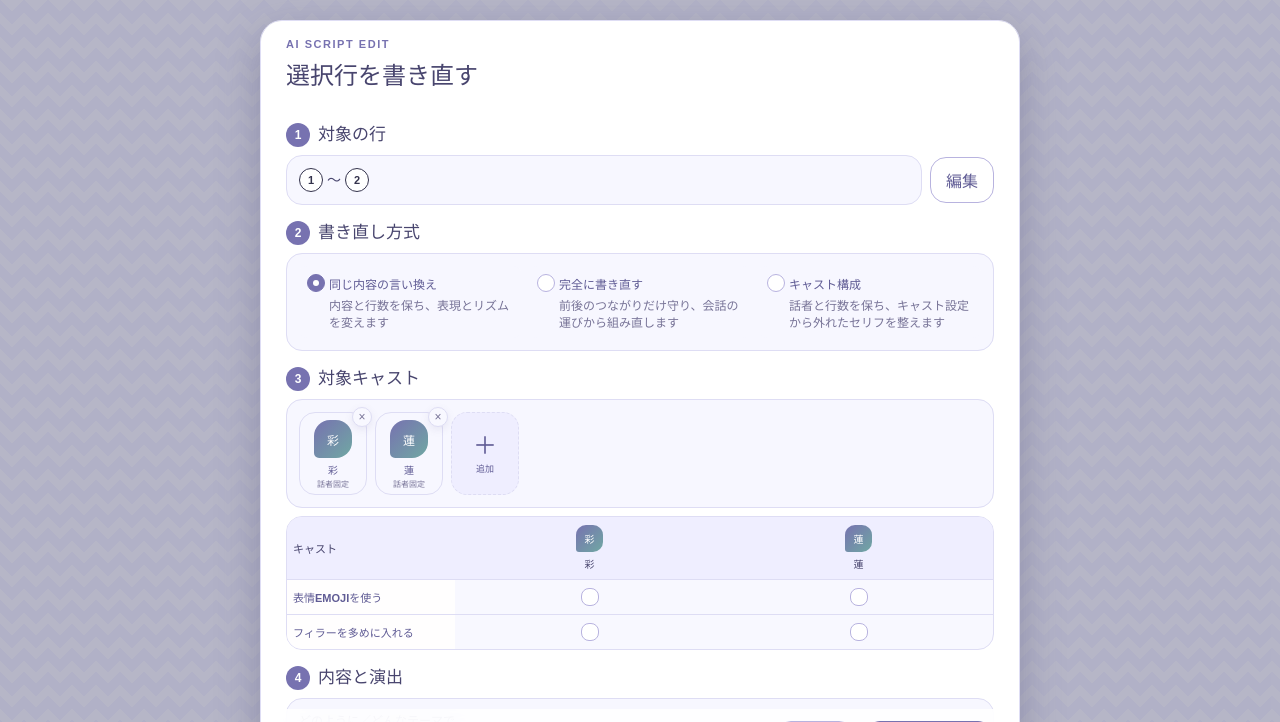
it: LineAssistantDialog cast and target settings › composes only the selected casts without content or emoji controls
Later steps or results of the test are not shown.
Click the radio button labelled "キャスト構成".
click(776, 283)  # box [767,274,785,292]
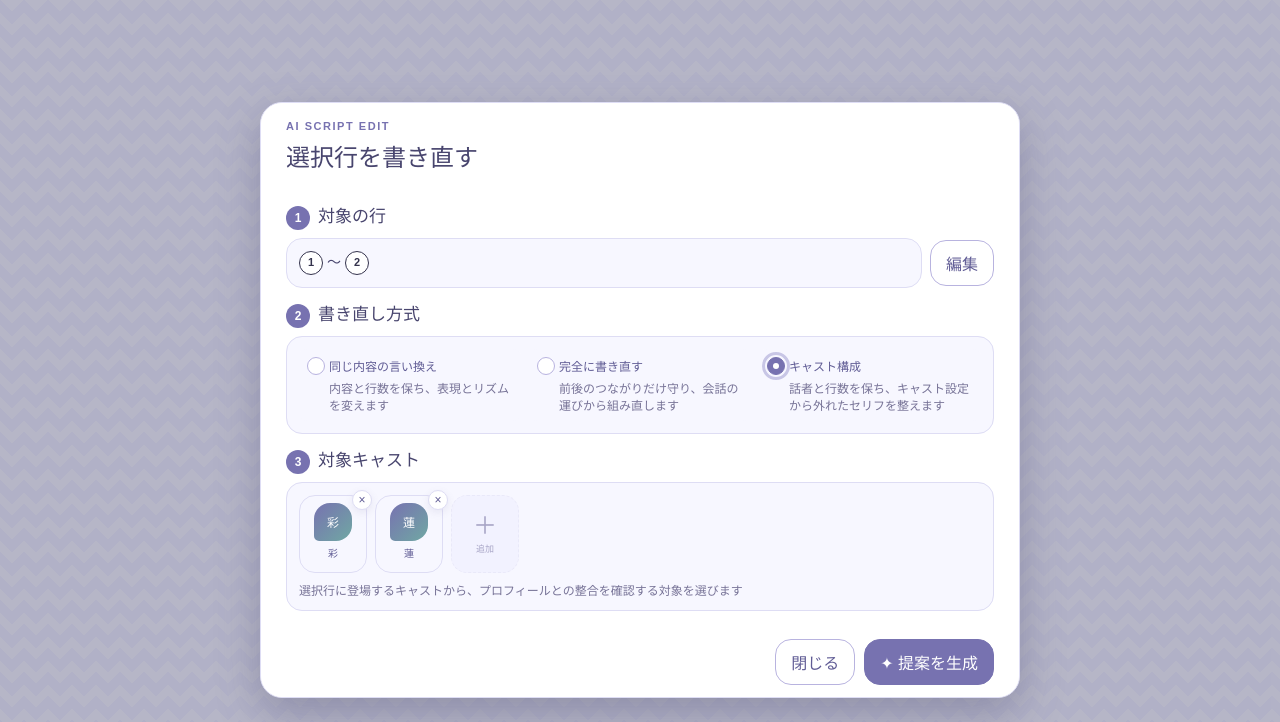
Result: the radio button labelled "キャスト構成" is checked at [767,357,785,375]
Result: the text "選択行に登場するキャストから、プロフィールとの整合を確認する対象を選びます" is shown at [299,584,743,598]
Result: the heading "内容と演出" is gone
